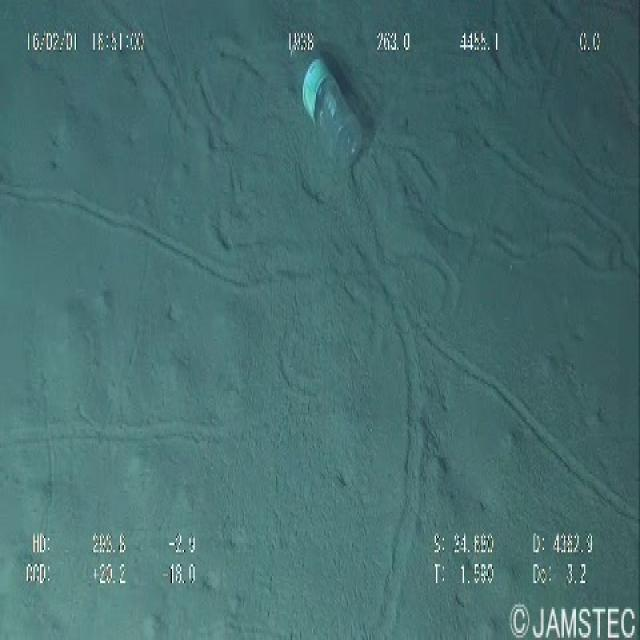plastic: (281, 33, 371, 171)
